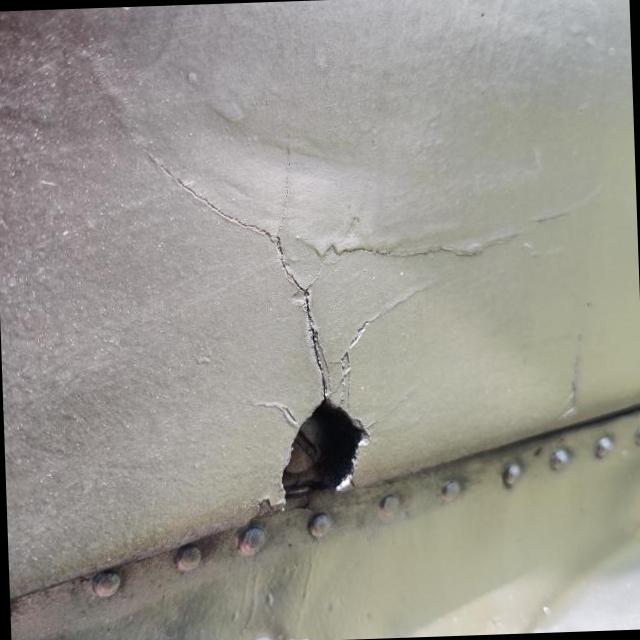Crack: (127, 126, 388, 522)
